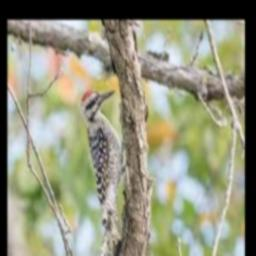Woodpecker: (81, 89, 125, 256)
